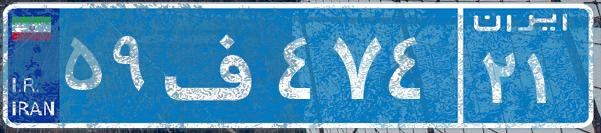1: (525, 38, 570, 115)
2: (475, 38, 525, 113)
4: (385, 28, 445, 110), (273, 28, 330, 110)
5: (57, 26, 110, 107)
7: (330, 28, 385, 110)
9: (110, 28, 158, 105)
ف: (158, 15, 273, 115)
